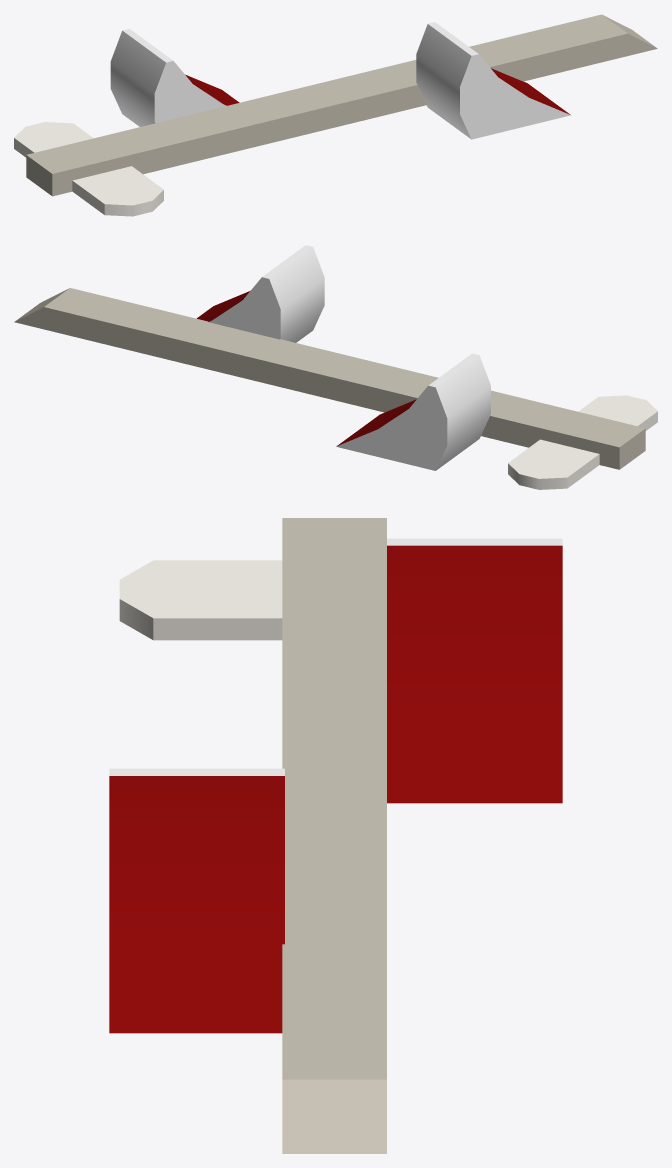
Rendered from Starter_Block.FBX.
3 views of the same model, one above another, from view 1: azimuth 30°, elevation 25°; view 2: azimuth 150°, elevation 25°; view 3: azimuth 270°, elevation 25° (orthographic). The views are drawn at different scales.
Visible parts, largest first — view 1: Starter_Block_; view 2: Starter_Block_; view 3: Starter_Block_.
Part boxes in pixels (left/top/right/bottom): Starter_Block_: left=14, top=14, right=657, bottom=216; Starter_Block_: left=14, top=245, right=657, bottom=489; Starter_Block_: left=109, top=518, right=562, bottom=1153.
Bounding box in the file's own units: 7.49 × 0.9892 × 2.43.
